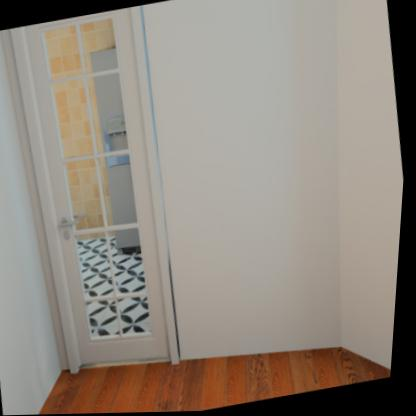Wooden floor: (44, 349, 396, 415)
